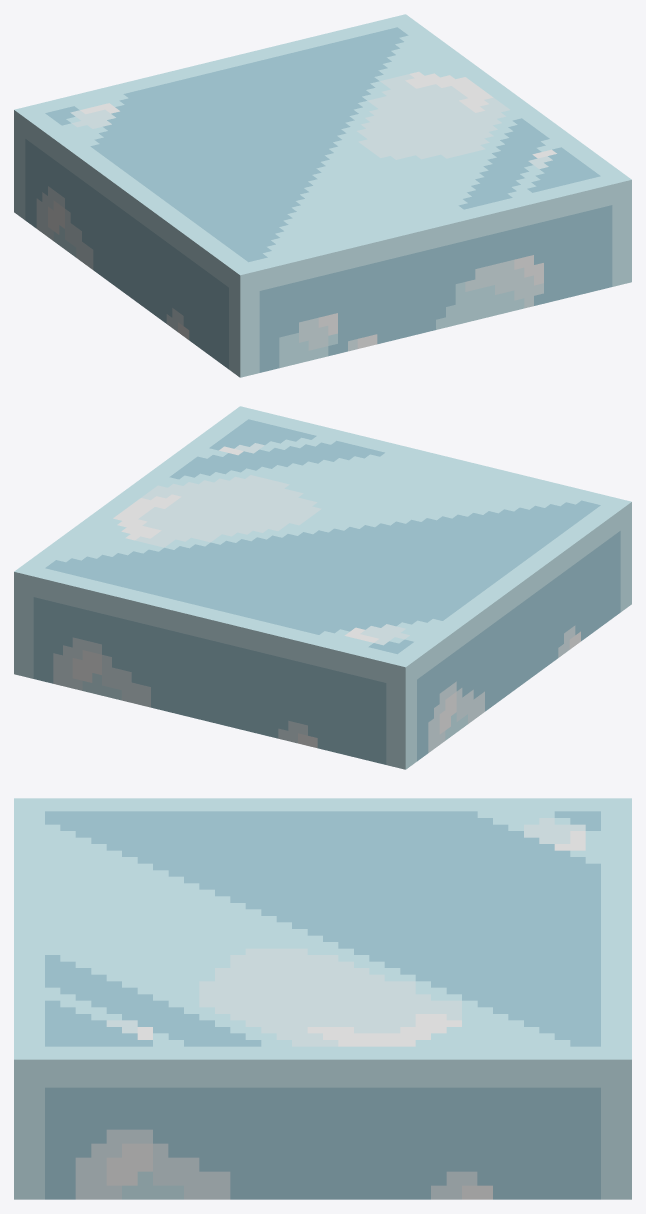
Rendered from cubito_hielo_normal.obj.
3 views of the same model, one above another, from view 1: azimuth 30°, elevation 25°; view 2: azimuth 150°, elevation 25°; view 3: azimuth 270°, elevation 25° (orthographic). The views are drawn at different scales.
Bounding box in the file's own units: 4 × 1 × 4.
Materials: 1 (1 with a texture image).
